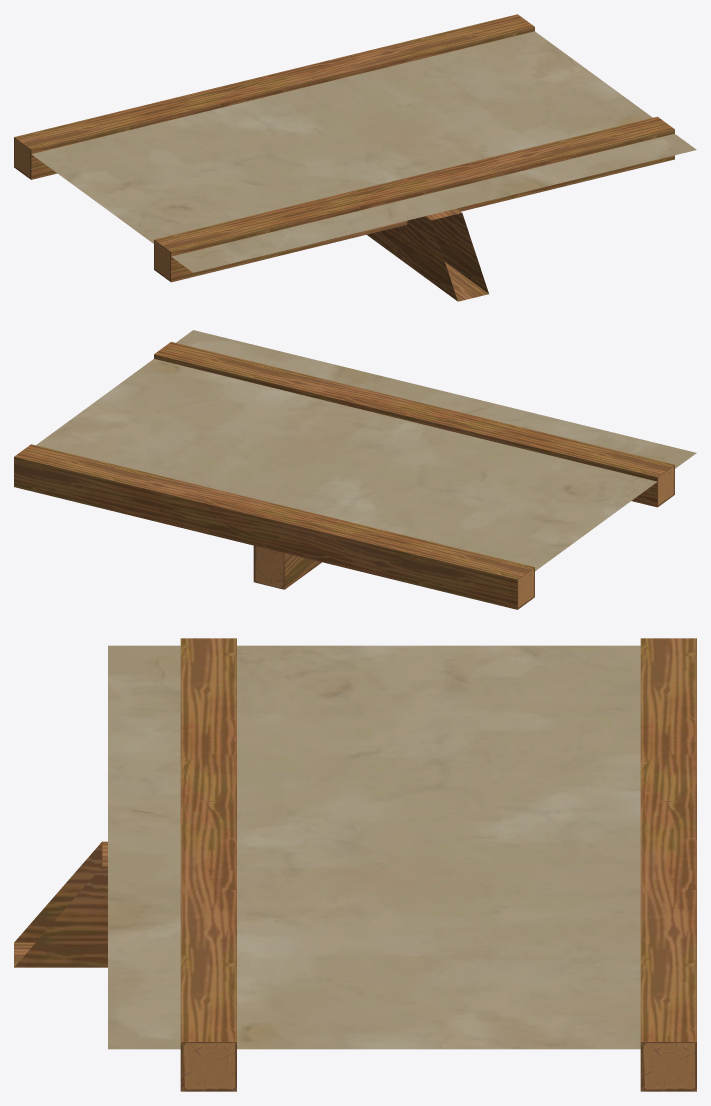
Rendered from Overhang_RoofIncline_Plaster.glb.
3 views of the same model, one above another, from view 1: azimuth 30°, elevation 25°; view 2: azimuth 150°, elevation 25°; view 3: azimuth 270°, elevation 25° (orthographic). The views are drawn at different scales.
Parts seen in each view (by area): view 1: Overhang_RoofIncline_Plaster; view 2: Overhang_RoofIncline_Plaster; view 3: Overhang_RoofIncline_Plaster.
Boxes of the visible parts, left/top/right/bottom form: Overhang_RoofIncline_Plaster: left=14, top=14, right=696, bottom=301; Overhang_RoofIncline_Plaster: left=14, top=330, right=696, bottom=609; Overhang_RoofIncline_Plaster: left=14, top=638, right=696, bottom=1091.
Size of the model in its own units: 2 by 0.2659 by 1.43.
2 materials, 2 textured.
